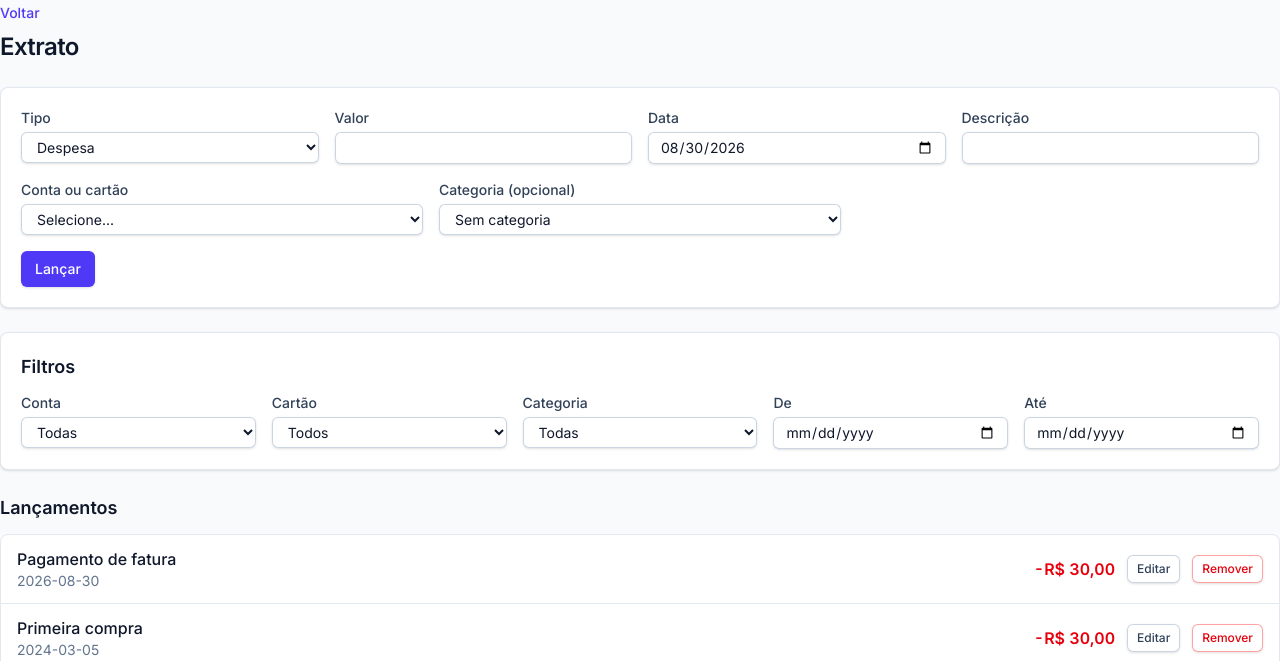
Test: TransactionsPage › asks for confirmation before changing the amount of an already-paid invoice
Type "10" into the number field labelled "Valor" at (483, 148), box [334,132,632,164]
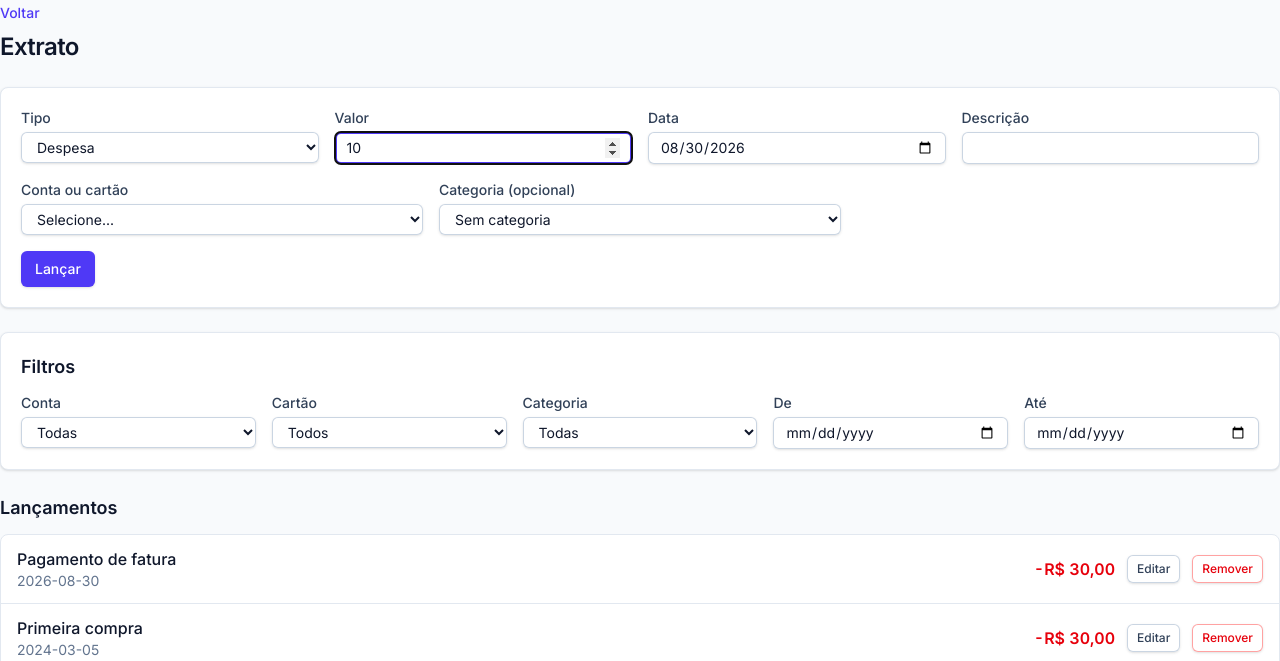
Type "Retroativa" into the field labelled "Descrição" at (1110, 148), box [962,132,1259,164]
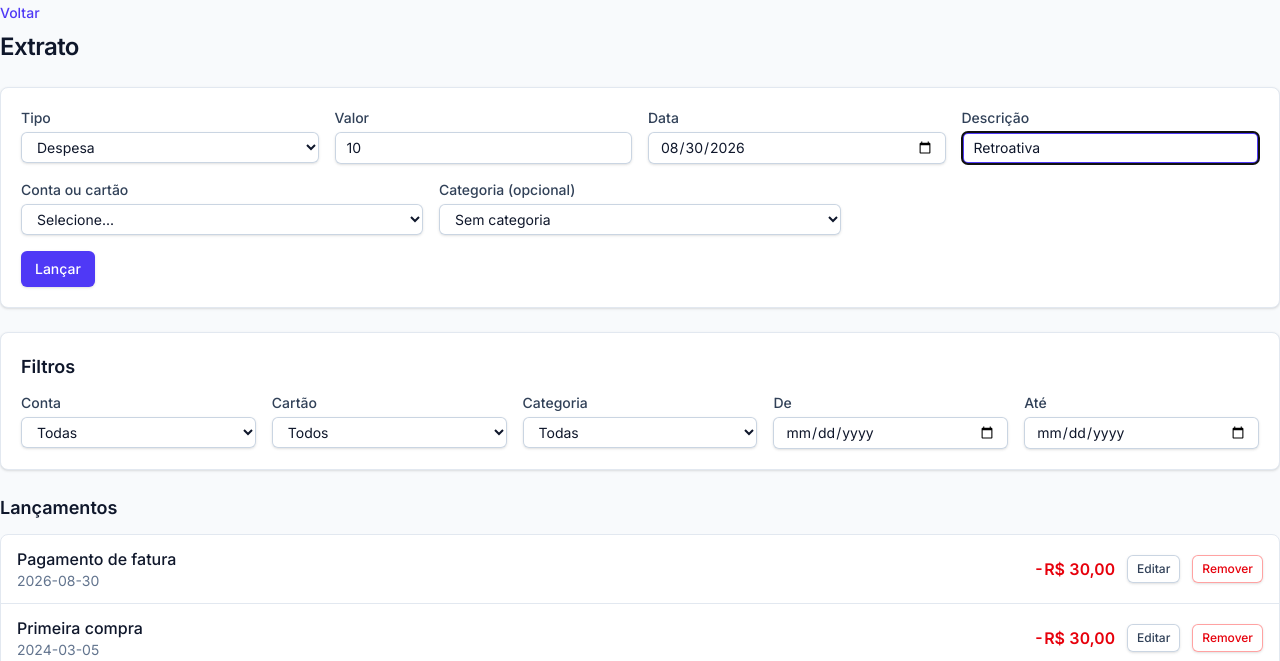
Select "Cartão Pago" in the dropdown labelled "Conta ou cartão" at (222, 220), box [21,204,423,235]
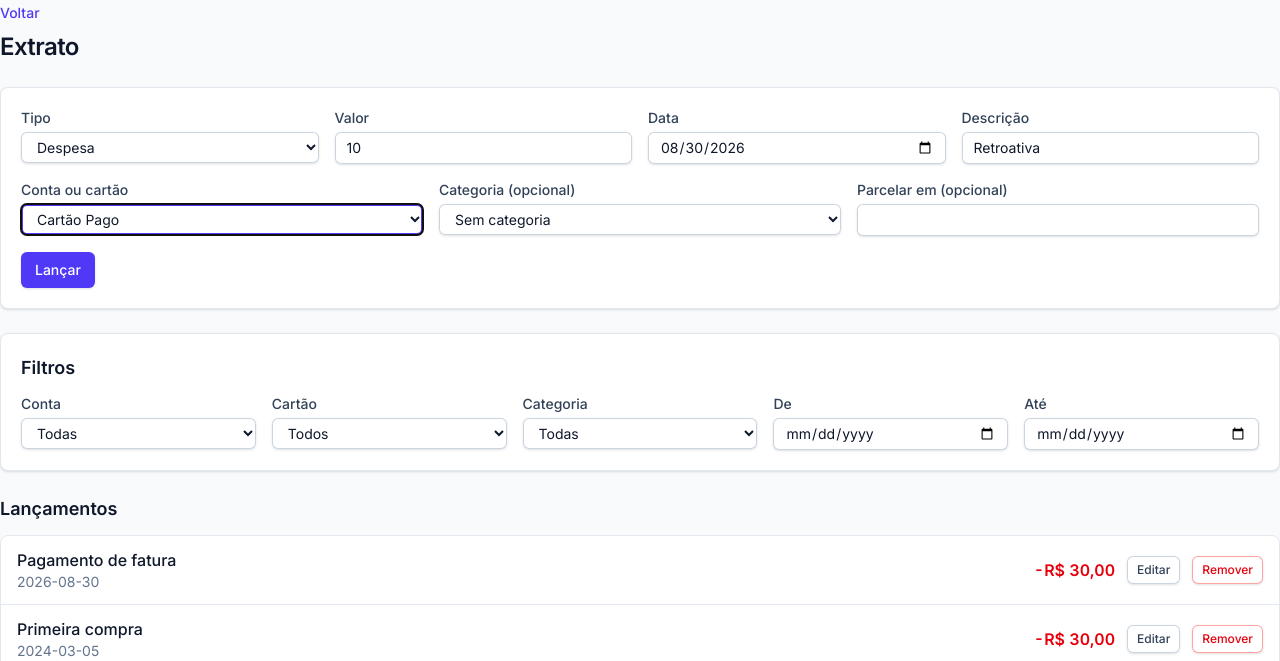
Type "2024-03-20" into the date field labelled "Data" at (797, 148), box [648,132,946,164]
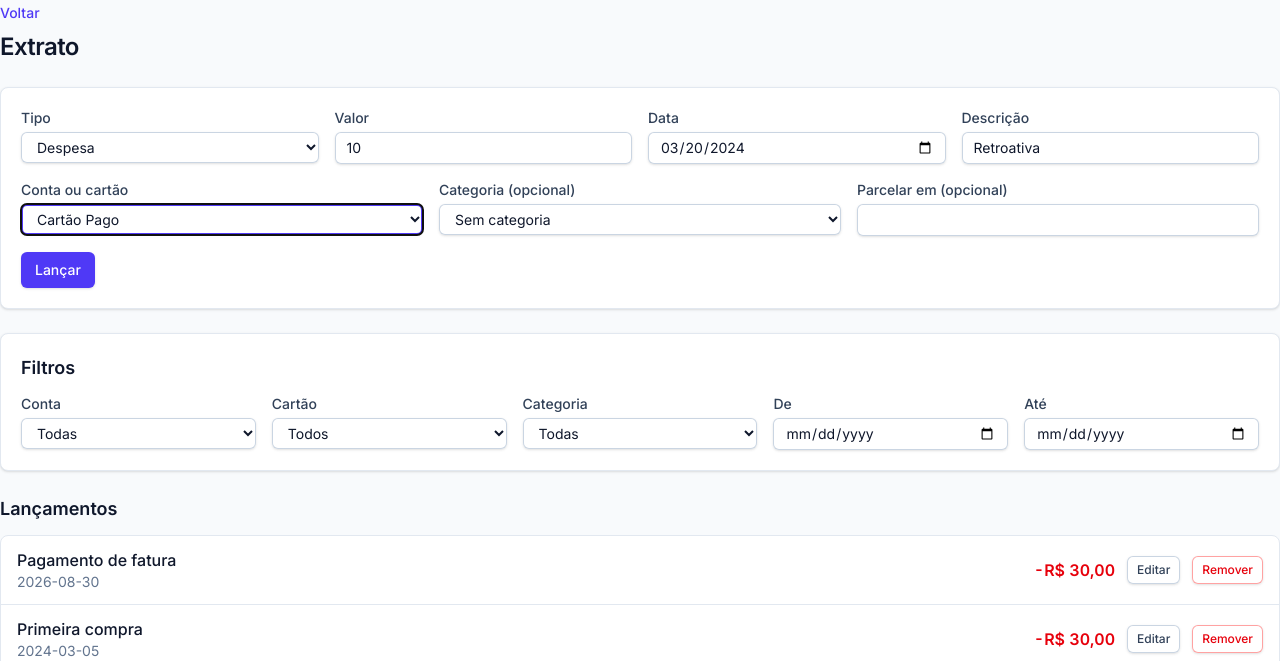
Click the button "Lançar" at (58, 270), box [21,252,95,288]
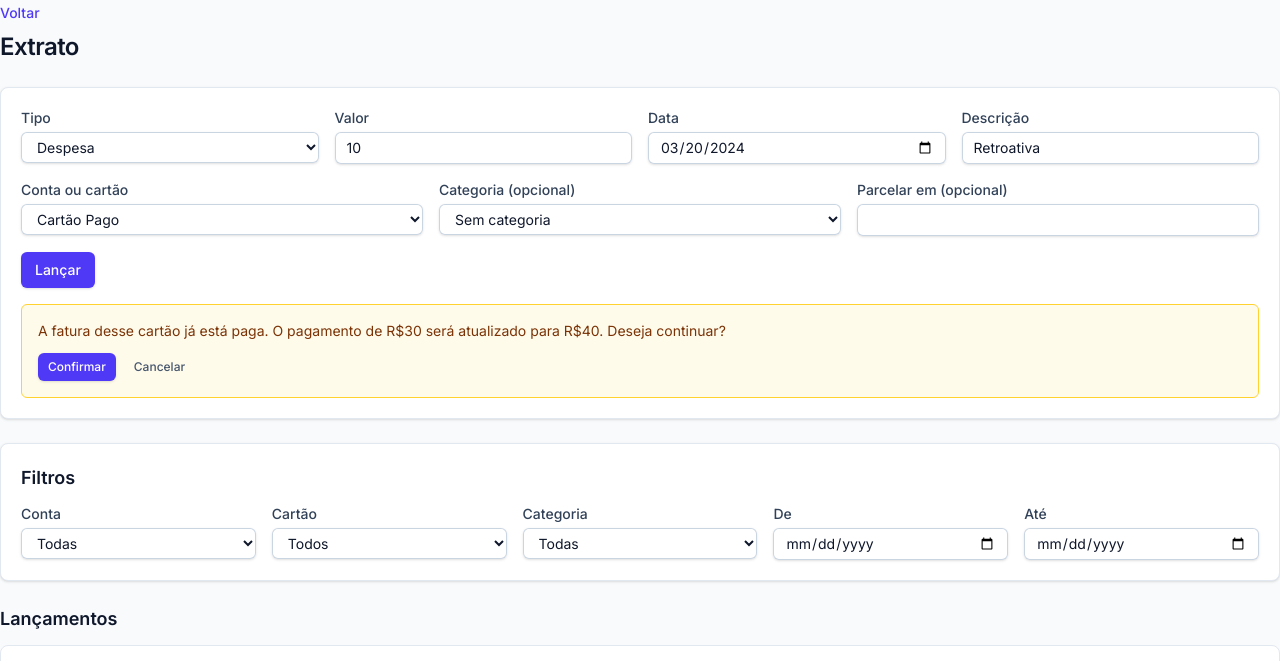
Now the dialog shows "R$30 será atualizado para R$40", box [21,304,1259,398]
Click the button "Confirmar" at (77, 367), box [38,353,116,381]
(page scrolled)
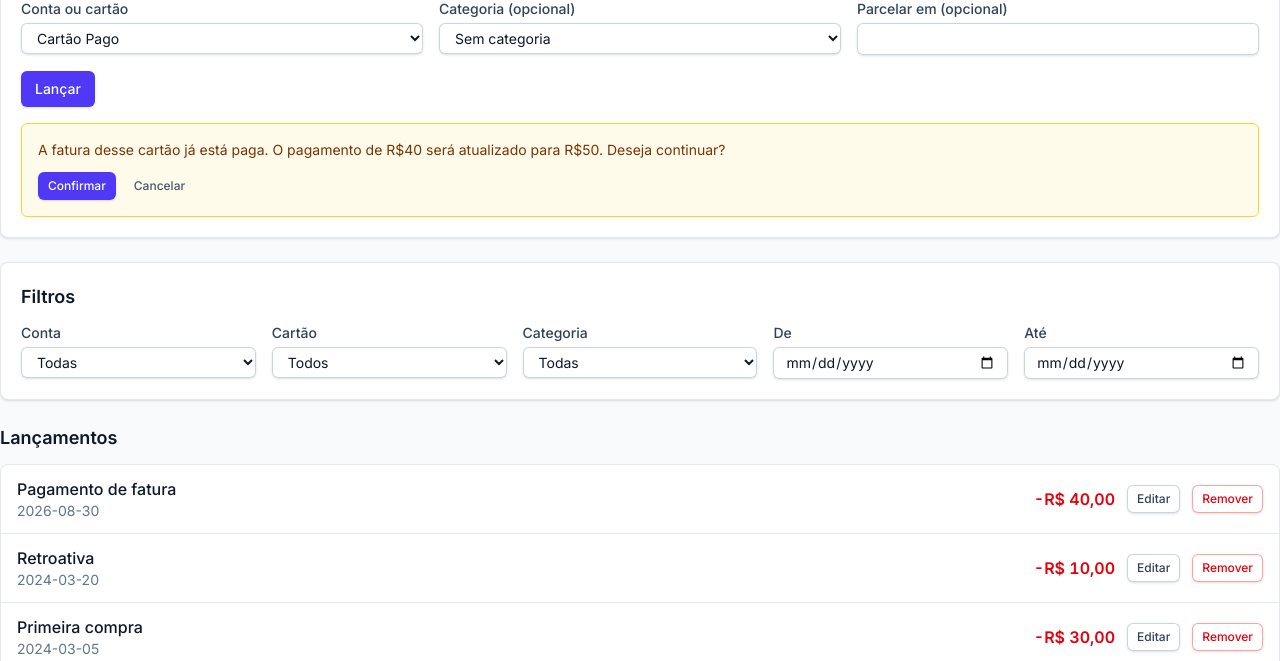
Now the text "Retroativa" is shown, box [17,546,99,570]
